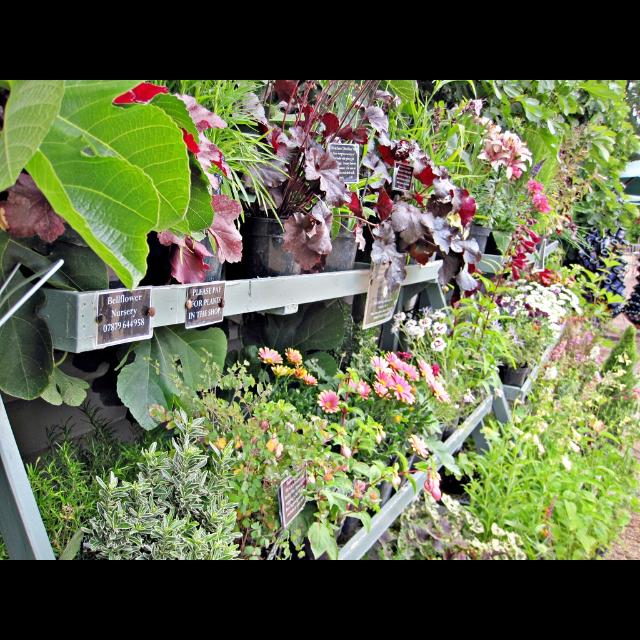Flower: (464, 278, 584, 334), (346, 349, 422, 406), (390, 310, 448, 352), (421, 358, 452, 402), (526, 178, 552, 214), (255, 346, 282, 364), (318, 388, 339, 409), (282, 346, 302, 366), (272, 361, 286, 377), (305, 373, 319, 387), (294, 366, 308, 378)
